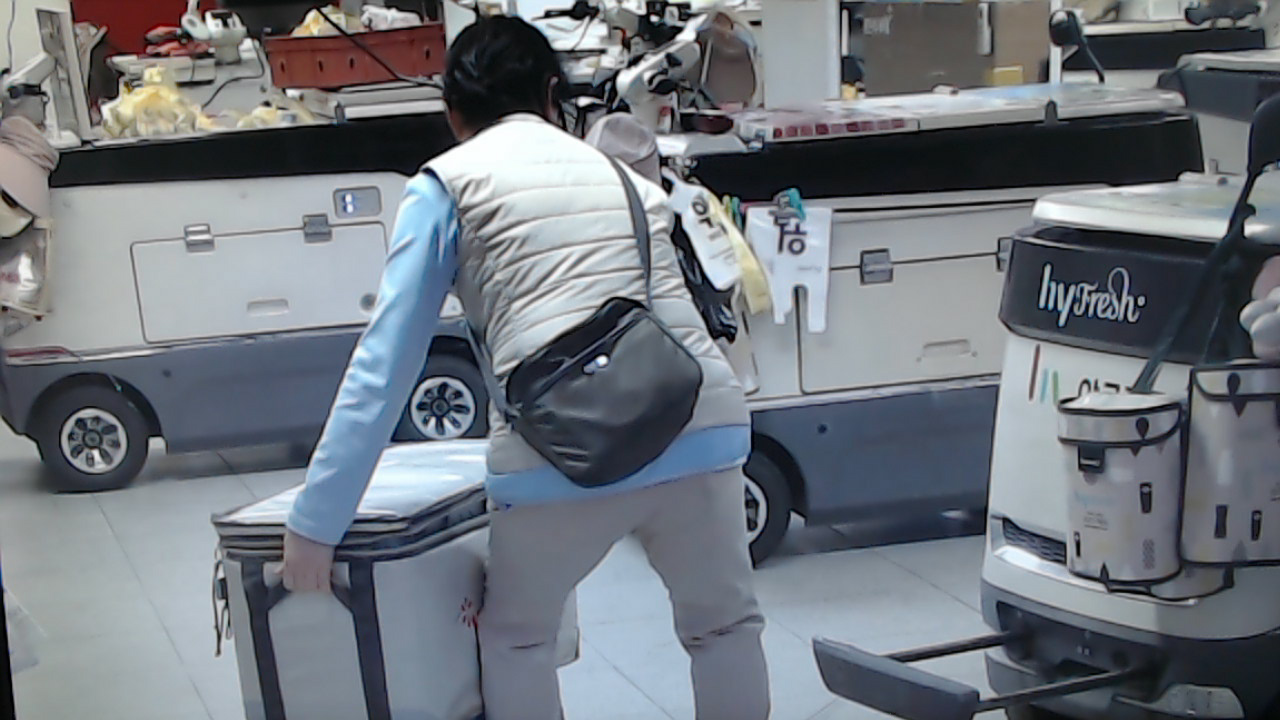Yakurut: (276, 16, 784, 720)
